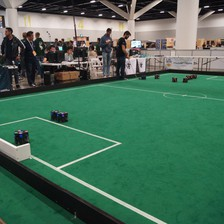goal: (1, 135, 33, 163)
robot: (12, 128, 30, 145), (56, 109, 69, 123), (49, 108, 59, 121), (170, 75, 178, 82), (139, 73, 146, 80), (153, 72, 160, 79), (181, 76, 188, 83), (192, 72, 197, 79), (185, 73, 190, 80), (189, 73, 193, 79)
